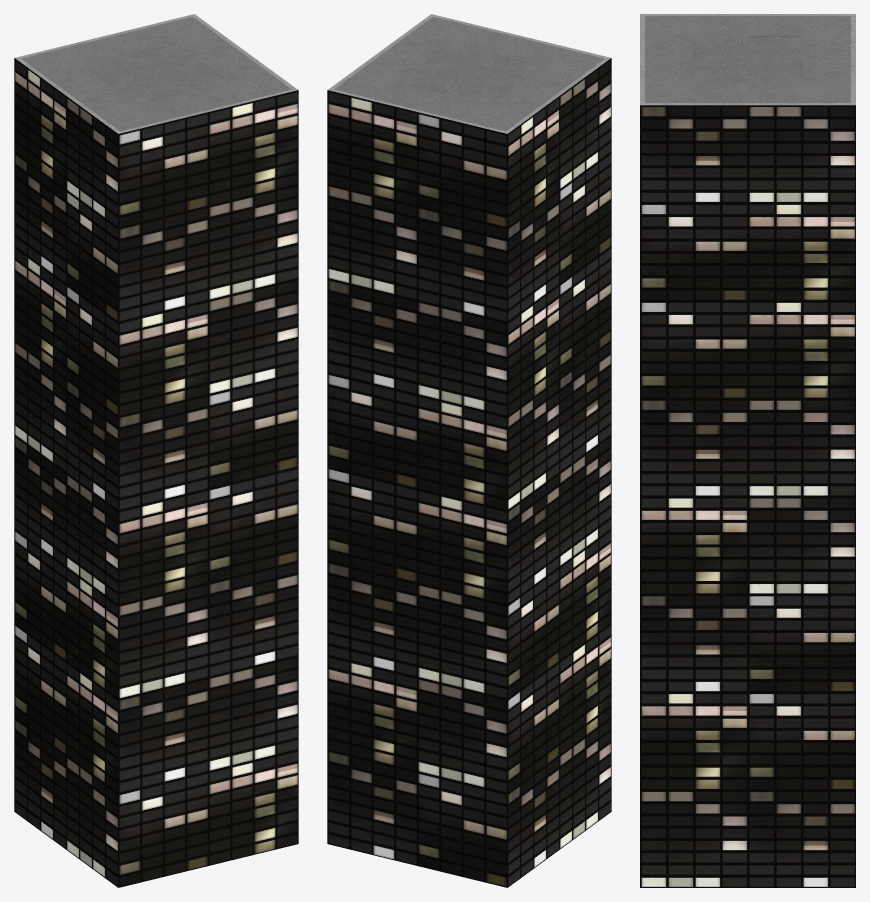
The picture shows the model from 3 angles, left to right: view 1: azimuth 30°, elevation 25°; view 2: azimuth 150°, elevation 25°; view 3: azimuth 270°, elevation 25°; orthographic projection. The views are drawn at different scales.
Visible parts, largest first — view 1: Building_square; view 2: Building_square; view 3: Building_square.
Boxes of the visible parts, x1,y1,x2,y2 form: Building_square: [14, 14, 298, 887]; Building_square: [327, 14, 611, 887]; Building_square: [640, 14, 855, 887].
Bounding box in the file's own units: 30 × 120 × 30.
1 material, 1 textured.
